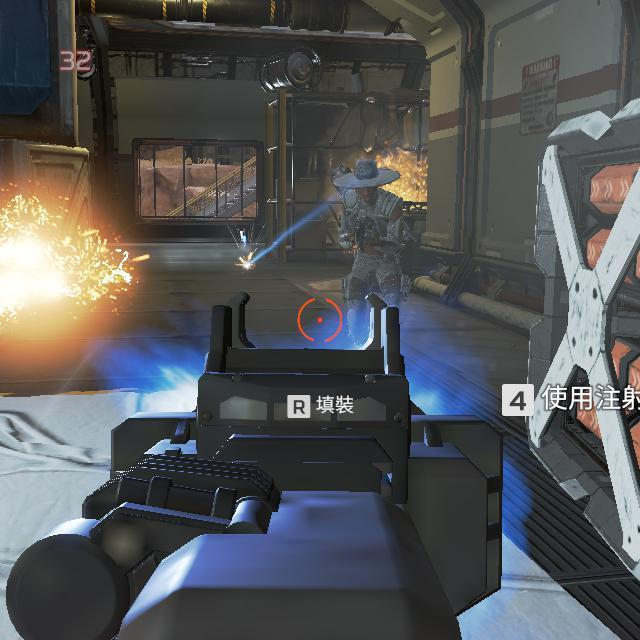avatar: (332, 157, 409, 300)
